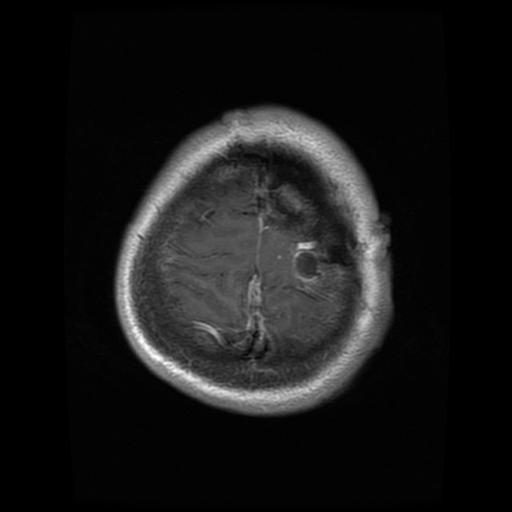Gliomia_tumour: (260, 165, 349, 287)
